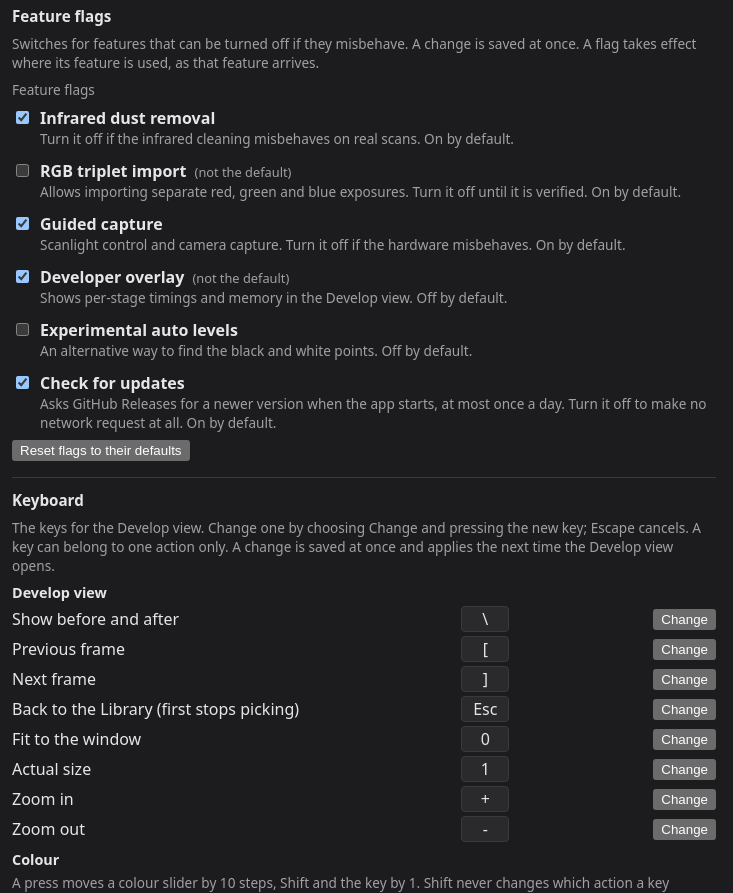
Scenario: SettingsView › the feature flags › resets every flag that is not at its default, and only those
The image size is (733, 893).
(page scrolled)
Check: the switch labelled "RGB triplet import" is shown, box left=16, top=164, right=29, bottom=177
Click the button "Reset flags to their defaults": point(101, 450) left=12, top=440, right=190, bottom=461
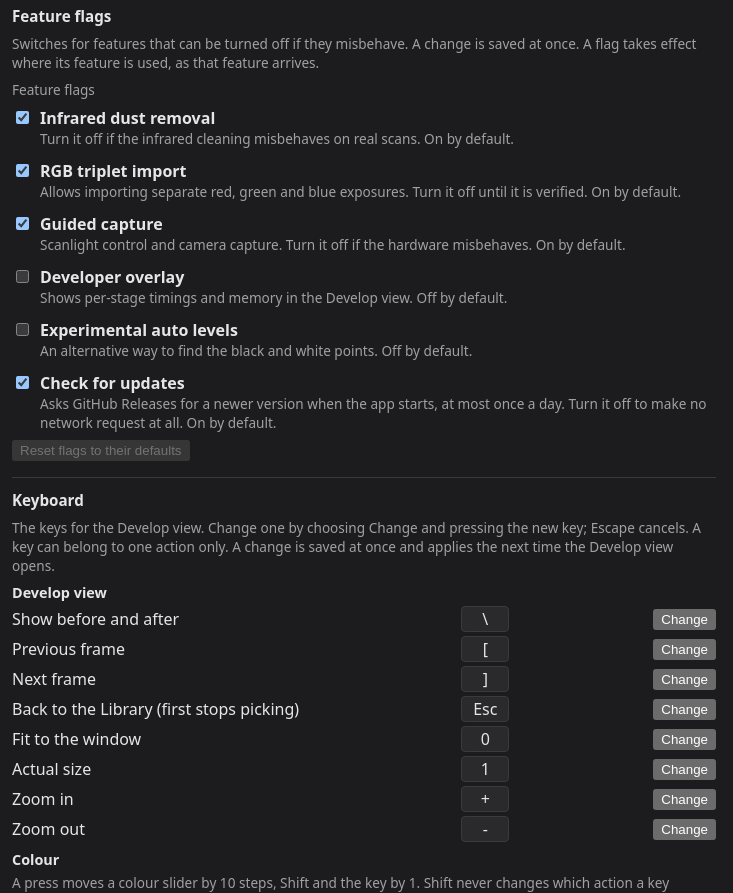
Check: the switch labelled "RGB triplet import" is checked, box left=16, top=164, right=29, bottom=177
Check: the switch labelled "Developer overlay" is not checked, box left=16, top=270, right=29, bottom=283
Check: the button "Reset flags to their defaults" is disabled, box left=12, top=440, right=190, bottom=461
